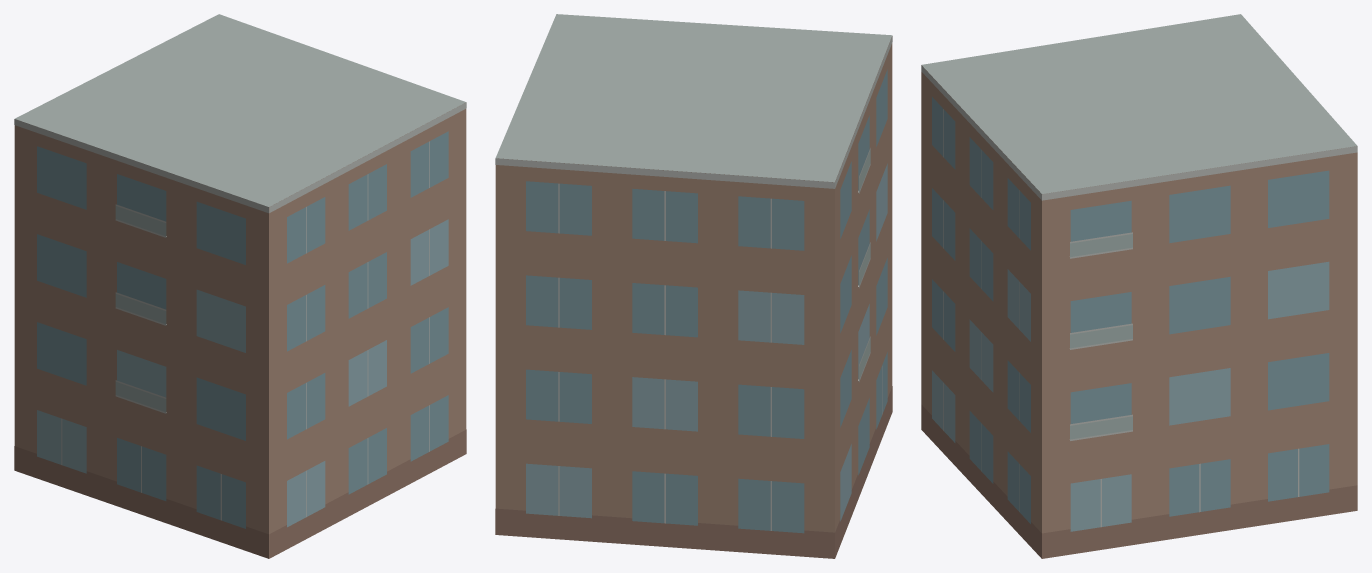
Rendered from survey-upis-32845478.glb.
3 views of the same model, side by side, from view 1: azimuth 30°, elevation 25°; view 2: azimuth 150°, elevation 25°; view 3: azimuth 270°, elevation 25° (orthographic). The views are drawn at different scales.
Visible parts, largest first — view 1: survey-upis-32845478.tmp; view 2: survey-upis-32845478.tmp; view 3: survey-upis-32845478.tmp.
Part boxes in pixels (x1,y1,x2,y2): survey-upis-32845478.tmp: [14, 14, 466, 558]; survey-upis-32845478.tmp: [495, 14, 892, 558]; survey-upis-32845478.tmp: [921, 14, 1357, 558].
Bounding box in the file's own units: 14.58 × 13.75 × 14.92.
